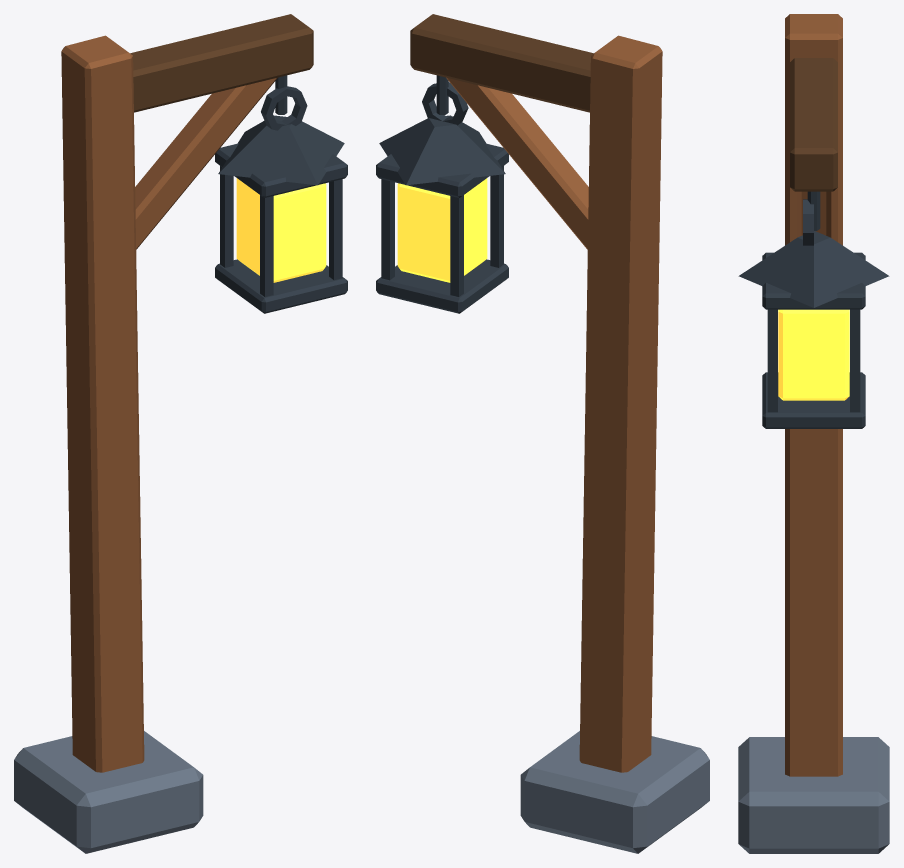
The model's file is Lantern.glb.
The picture shows the model from 3 angles, left to right: view 1: azimuth 30°, elevation 25°; view 2: azimuth 150°, elevation 25°; view 3: azimuth 270°, elevation 25°; orthographic projection. The views are drawn at different scales.
Parts seen in each view (by area): view 1: Lamp post, Lamp footing, Lamp bracket, Lamp diagonal brace, Amber lantern, Peaked lantern hood, Lantern rim, Lantern rim.001, Lantern iron corner, Lantern iron corner.002, Lantern iron corner.001, Lantern hanger; view 2: Lamp post, Lamp footing, Lamp bracket, Lamp diagonal brace, Amber lantern, Peaked lantern hood, Lantern rim, Lantern rim.001, Lantern iron corner.001, Lantern iron corner.003, Lantern iron corner, Lantern hanger; view 3: Lamp post, Lamp footing, Amber lantern, Lamp bracket, Peaked lantern hood, Lantern rim, Lantern rim.001, Lantern iron corner.002, Lantern iron corner.003, Lamp diagonal brace, Lantern hanger, Lamp chain.
Part boxes in pixels (bbox=[...]): Lamp post: bbox=[61, 35, 144, 772]; Lamp footing: bbox=[14, 731, 203, 853]; Lamp bracket: bbox=[130, 14, 313, 112]; Lamp diagonal brace: bbox=[135, 77, 277, 249]; Amber lantern: bbox=[236, 178, 326, 282]; Peaked lantern hood: bbox=[218, 115, 344, 185]; Lantern rim: bbox=[215, 259, 347, 313]; Lantern rim.001: bbox=[215, 143, 347, 197]; Lantern iron corner: bbox=[260, 195, 273, 296]; Lantern iron corner.002: bbox=[329, 179, 342, 280]; Lantern iron corner.001: bbox=[220, 166, 233, 267]; Lantern hanger: bbox=[261, 86, 307, 130]; Lamp post: bbox=[579, 35, 662, 772]; Lamp footing: bbox=[520, 731, 709, 853]; Lamp bracket: bbox=[410, 14, 593, 112]; Lamp diagonal brace: bbox=[446, 77, 588, 249]; Amber lantern: bbox=[397, 178, 487, 282]; Peaked lantern hood: bbox=[379, 115, 505, 185]; Lantern rim: bbox=[376, 259, 508, 313]; Lantern rim.001: bbox=[376, 143, 508, 197]; Lantern iron corner.001: bbox=[450, 195, 463, 296]; Lantern iron corner.003: bbox=[381, 179, 394, 280]; Lantern iron corner: bbox=[490, 166, 503, 267]; Lantern hanger: bbox=[422, 82, 468, 125]; Lamp post: bbox=[785, 14, 842, 776]; Lamp footing: bbox=[738, 737, 889, 853]; Amber lantern: bbox=[778, 309, 849, 400]; Lamp bracket: bbox=[790, 58, 837, 191]; Peaked lantern hood: bbox=[738, 231, 889, 307]; Lantern rim: bbox=[762, 372, 865, 428]; Lantern rim.001: bbox=[762, 252, 865, 309]; Lantern iron corner.002: bbox=[767, 309, 777, 412]; Lantern iron corner.003: bbox=[850, 309, 860, 412]; Lamp diagonal brace: bbox=[796, 191, 831, 237]; Lantern hanger: bbox=[803, 199, 813, 245]; Lamp chain: bbox=[807, 191, 820, 230].
Bounding box in the file's own units: 2.6 × 6.4 × 1.1.
